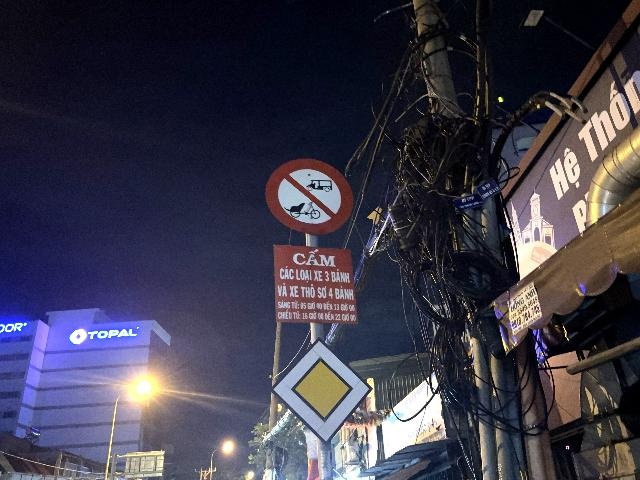bat-dau-duong-uu-tien: (271, 338, 375, 444)
cam-xe-3-banh-xe-tho-so-4-banh: (265, 158, 354, 235)
